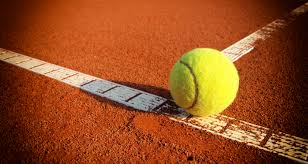tennis_ball: (167, 47, 240, 115)
